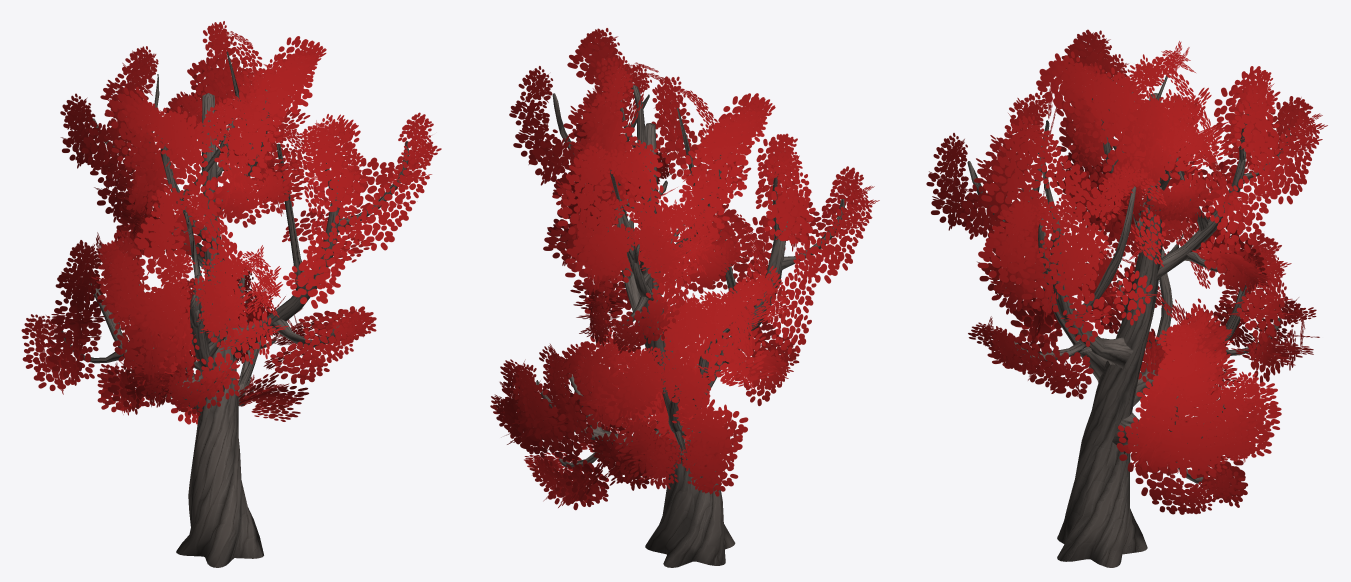
The model's file is twisted-tree-3.glb.
3 views of the same model, side by side, from view 1: azimuth 30°, elevation 25°; view 2: azimuth 150°, elevation 25°; view 3: azimuth 270°, elevation 25° (orthographic). The views are drawn at different scales.
Parts seen in each view (by area): view 1: TwistedTree_3; view 2: TwistedTree_3; view 3: TwistedTree_3.
Part boxes in pixels (x1,y1,x2,y2): TwistedTree_3: (21,21,441,567); TwistedTree_3: (490,28,879,567); TwistedTree_3: (926,29,1327,567).
Bounding box in the file's own units: 11.36 × 16.07 × 11.51.
2 materials, 2 textured.
